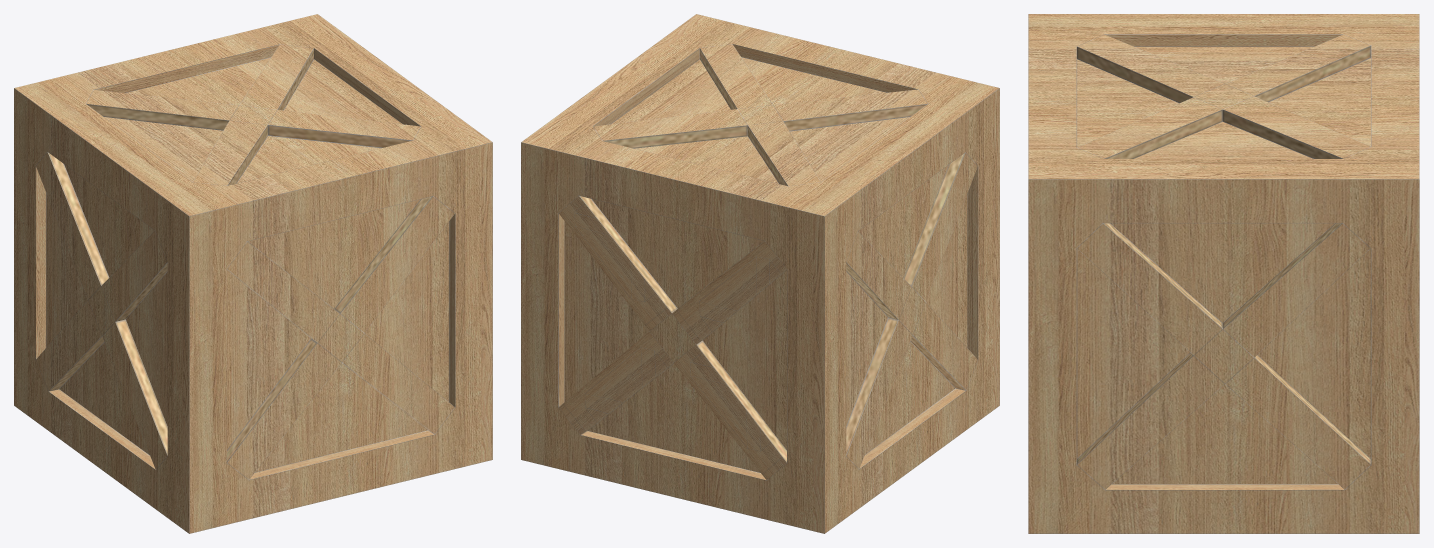
The model's file is Shield.fbx.
The picture shows the model from 3 angles, left to right: view 1: azimuth 30°, elevation 25°; view 2: azimuth 150°, elevation 25°; view 3: azimuth 270°, elevation 25°; orthographic projection. The views are drawn at different scales.
Parts seen in each view (by area): view 1: pCube20, pCube23, pCube26; view 2: pCube22, pCube23, pCube26; view 3: pCube21, pCube26.
Boxes of the visible parts, x1,y1,x2,y2 form: pCube20: (189, 142, 492, 533); pCube23: (14, 88, 189, 533); pCube26: (14, 14, 492, 216); pCube22: (521, 142, 824, 533); pCube23: (824, 88, 999, 533); pCube26: (521, 14, 999, 216); pCube21: (1028, 179, 1419, 533); pCube26: (1028, 14, 1419, 179).
Bounding box in the file's own units: 14 × 14 × 14.
1 material, 1 textured.
